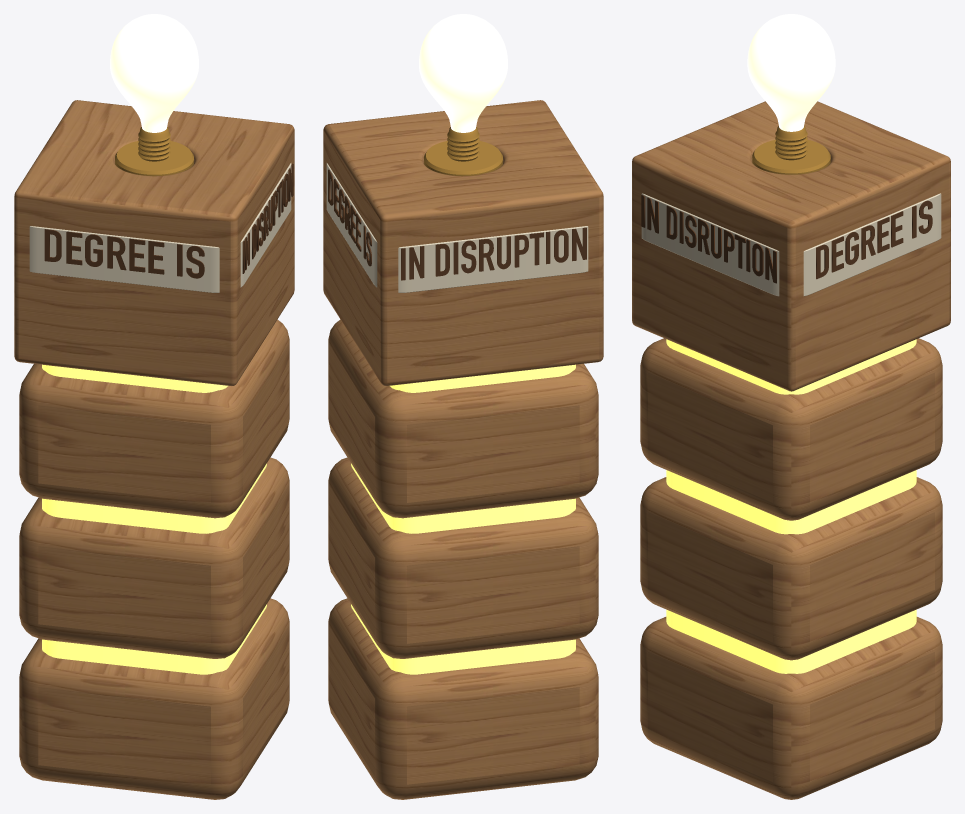
The model's file is lamp.glb.
3 renders of one model, left to right at view 1: azimuth 30°, elevation 25°; view 2: azimuth 150°, elevation 25°; view 3: azimuth 270°, elevation 25°, orthographic.
Parts seen in each view (by area): view 1: block0, glow, band, bulb, letters, collar; view 2: block0, glow, band, bulb, letters, collar; view 3: block0, glow, band, bulb, letters, collar.
Boxes of the visible parts, x1=… form: block0: x1=14, y1=100, x2=294, y2=799; glow: x1=42, y1=364, x2=266, y2=674; band: x1=29, y1=163, x2=291, y2=292; bulb: x1=110, y1=14, x2=198, y2=132; letters: x1=44, y1=163, x2=293, y2=278; collar: x1=115, y1=127, x2=193, y2=176; block0: x1=323, y1=100, x2=603, y2=799; glow: x1=351, y1=364, x2=575, y2=674; band: x1=326, y1=163, x2=588, y2=292; bulb: x1=419, y1=14, x2=507, y2=132; letters: x1=328, y1=169, x2=586, y2=280; collar: x1=424, y1=127, x2=502, y2=176; block0: x1=632, y1=101, x2=950, y2=799; glow: x1=666, y1=339, x2=916, y2=673; band: x1=641, y1=193, x2=941, y2=296; bulb: x1=747, y1=14, x2=835, y2=131; letters: x1=641, y1=195, x2=932, y2=283; collar: x1=752, y1=126, x2=830, y2=174.
Size of the model in its own units: 0.418 by 1.05 by 0.418.
6 materials, 1 textured.
